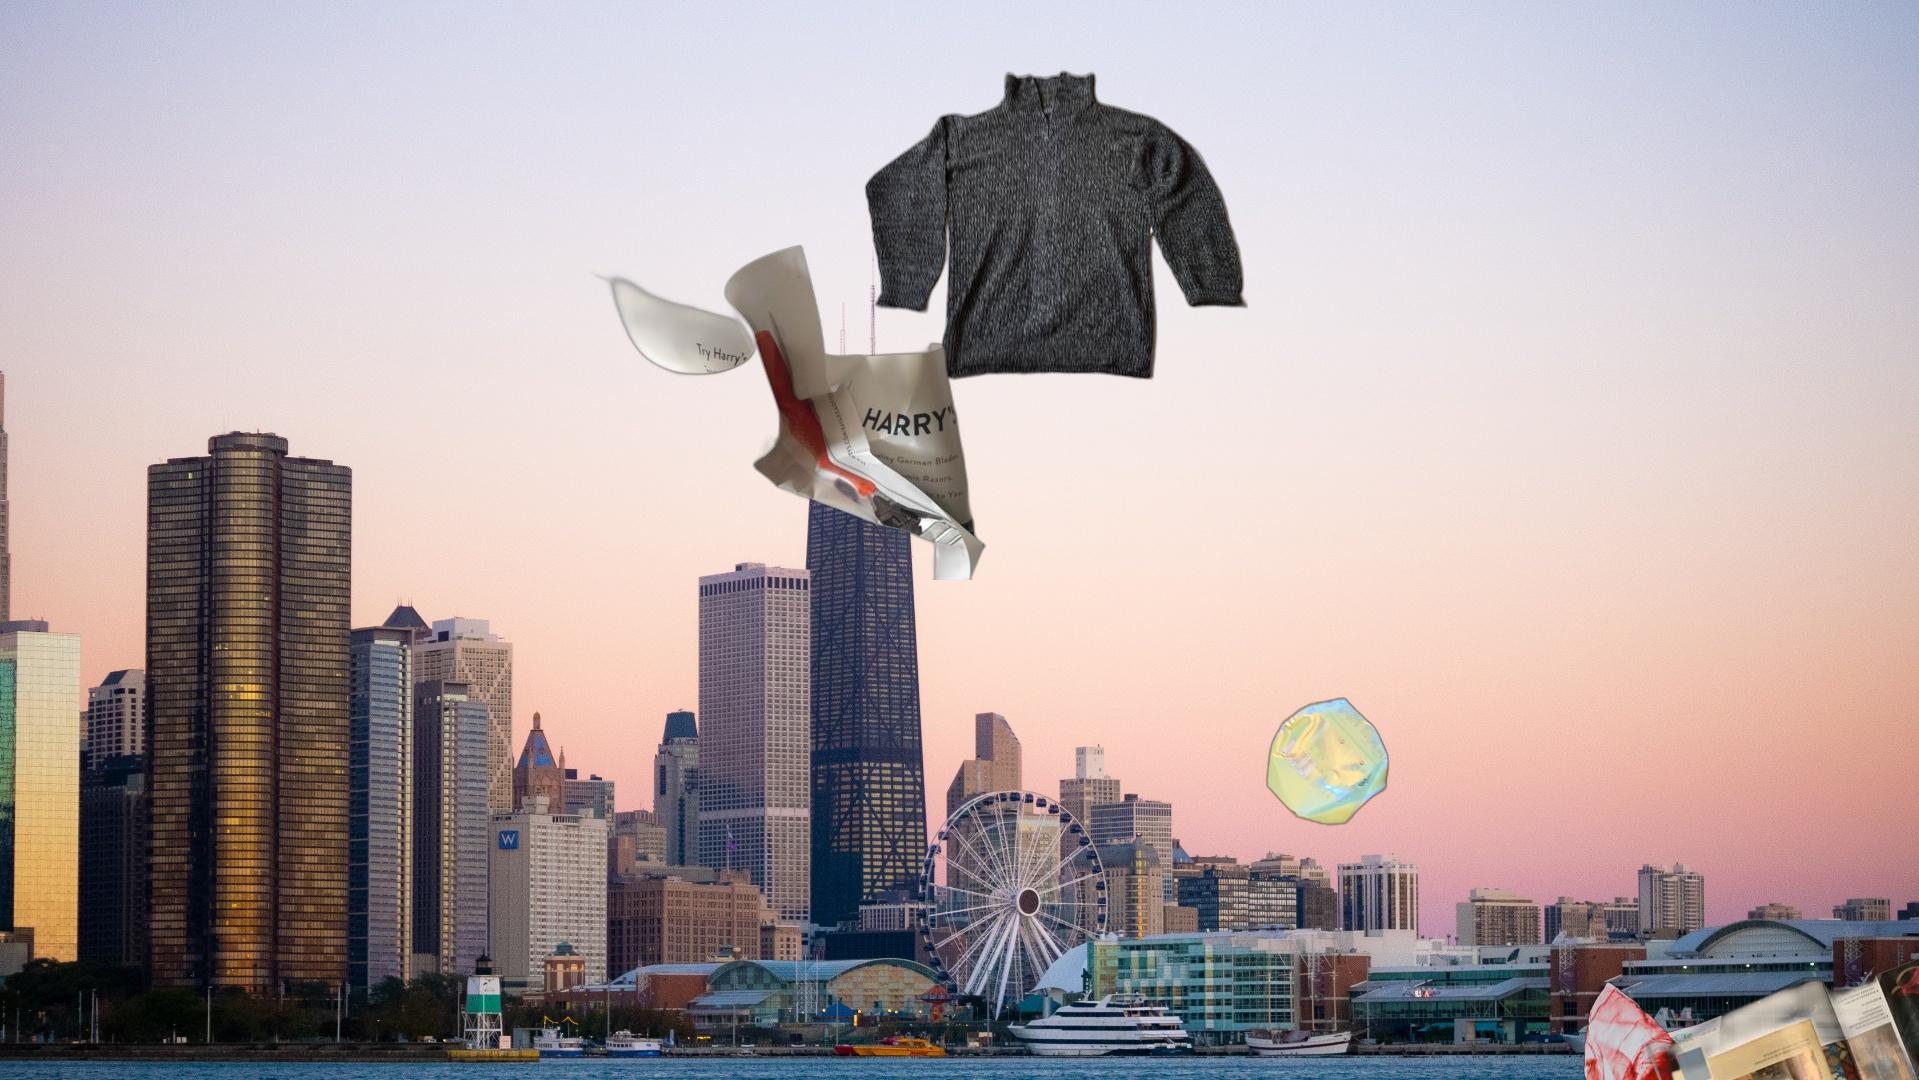clothes: (863, 69, 1248, 382)
metal-cans: (1263, 694, 1393, 831)
paper: (584, 244, 988, 580), (1641, 916, 1919, 1080)
plastic-bag: (1582, 981, 1734, 1080)
